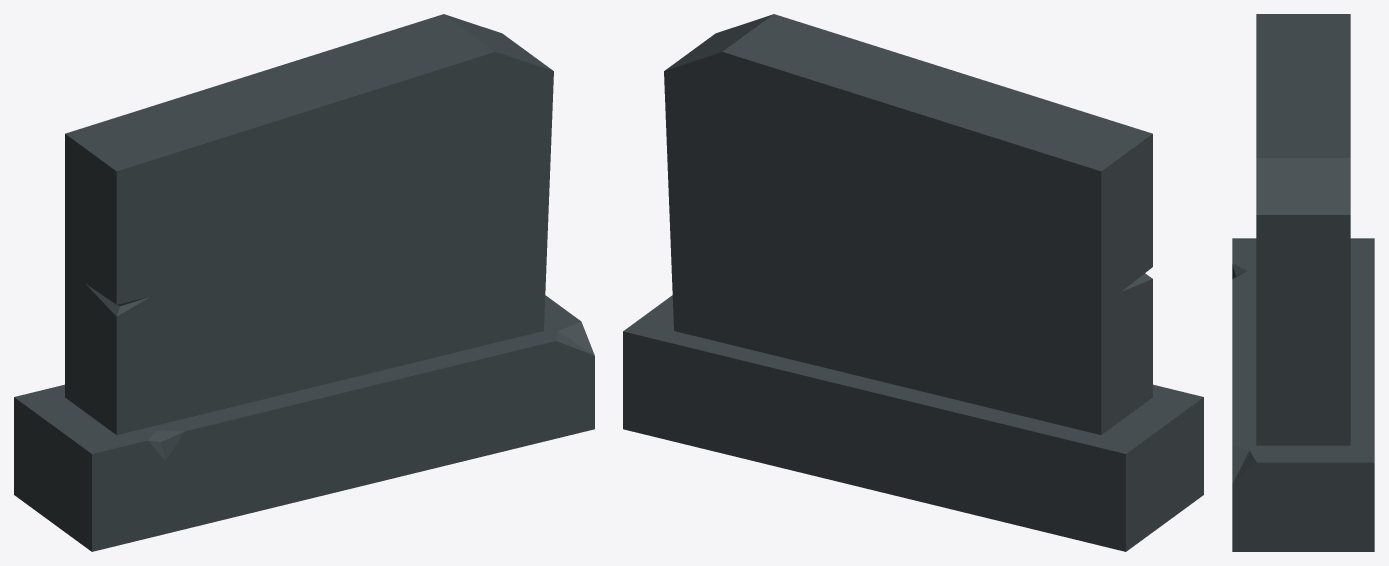
File: tombstone_9.fbx
The picture shows the model from 3 angles, left to right: view 1: azimuth 30°, elevation 25°; view 2: azimuth 150°, elevation 25°; view 3: azimuth 270°, elevation 25°; orthographic projection. The views are drawn at different scales.
Visible parts, largest first — view 1: tombstone10; view 2: tombstone10; view 3: tombstone10.
Boxes of the visible parts, box(x1,y1,x2,y2) form: tombstone10: box(14, 14, 594, 551); tombstone10: box(623, 14, 1203, 551); tombstone10: box(1232, 14, 1374, 551).
Bounding box in the file's own units: 0.8957 × 0.6618 × 0.2405.
